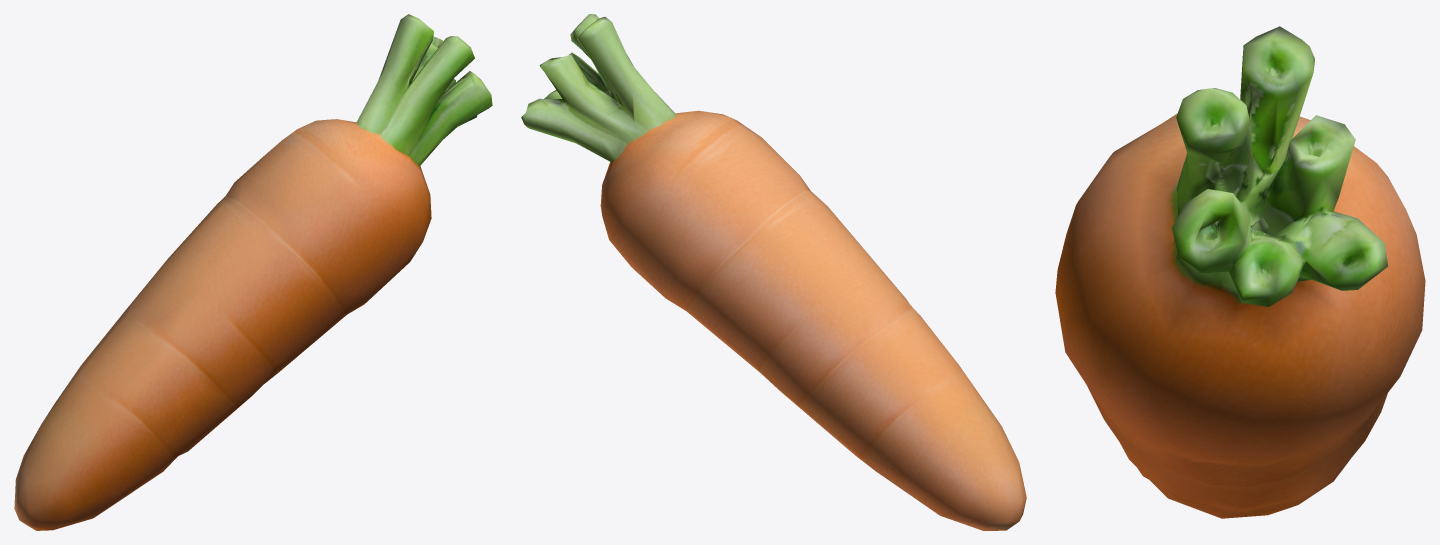
File: Food_Carrot.fbx
3 renders of one model, left to right at view 1: azimuth 30°, elevation 25°; view 2: azimuth 150°, elevation 25°; view 3: azimuth 270°, elevation 25°, orthographic. The views are drawn at different scales.
Visible parts, largest first — view 1: Food_Carrot; view 2: Food_Carrot; view 3: Food_Carrot.
Boxes of the visible parts, <box> form: Food_Carrot: <box>14,14,492,530</box>; Food_Carrot: <box>521,14,1026,530</box>; Food_Carrot: <box>1055,26,1425,518</box>.
Size of the model in its own units: 0.26 by 0.2221 by 0.0903.
Materials: 1 (1 with a texture image).
